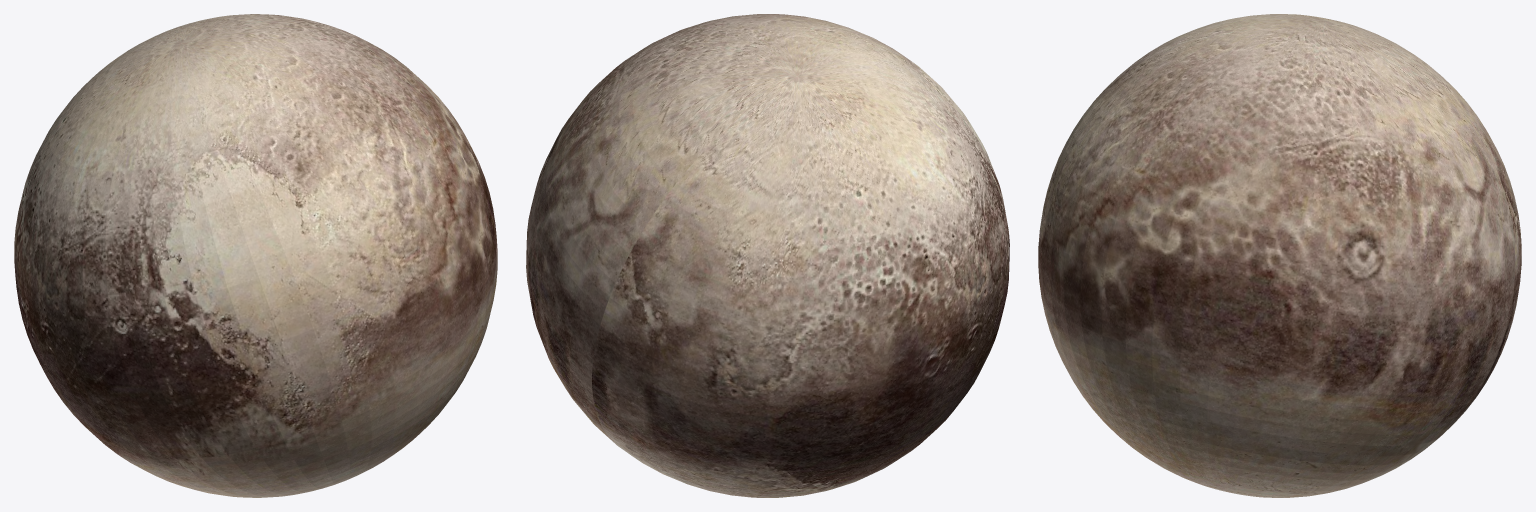
Rendered from pluto.obj.
3 views of the same model, side by side, from view 1: azimuth 30°, elevation 25°; view 2: azimuth 150°, elevation 25°; view 3: azimuth 270°, elevation 25° (orthographic).
Visible parts, largest first — view 1: Plane; view 2: Plane; view 3: Plane.
Boxes of the visible parts, x1,y1,x2,y2 form: Plane: (14,14,497,497); Plane: (526,14,1009,497); Plane: (1038,14,1521,497).
Bounding box in the file's own units: 2.61 × 2.61 × 2.61.
1 material, 1 textured.
